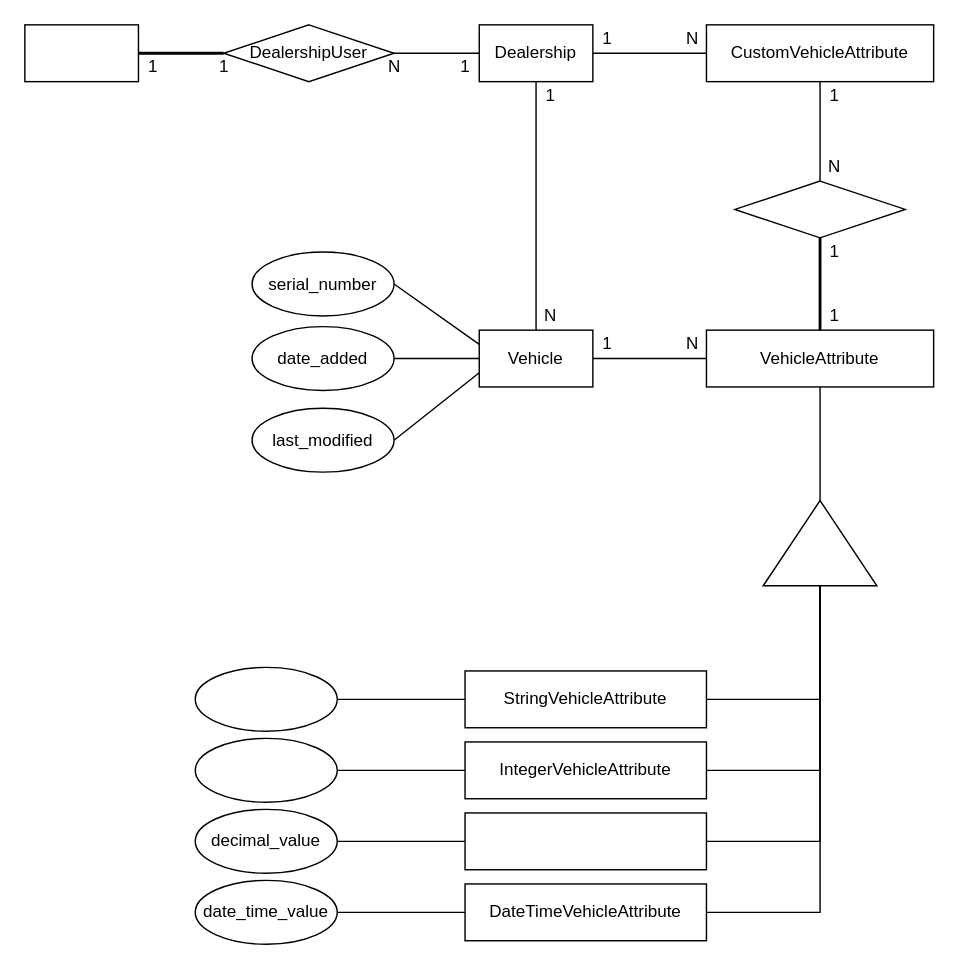
Image size: 959x970. Some labels were removed from this diagram. Each missing label, with the centre of its shape:
CurrencyVehicleAttribute: the point at 585,841
integer_value: the point at 265,769
ISA: the point at 819,542
string_value: the point at 265,698
User: the point at 80,52
VehicleType: the point at 819,209
